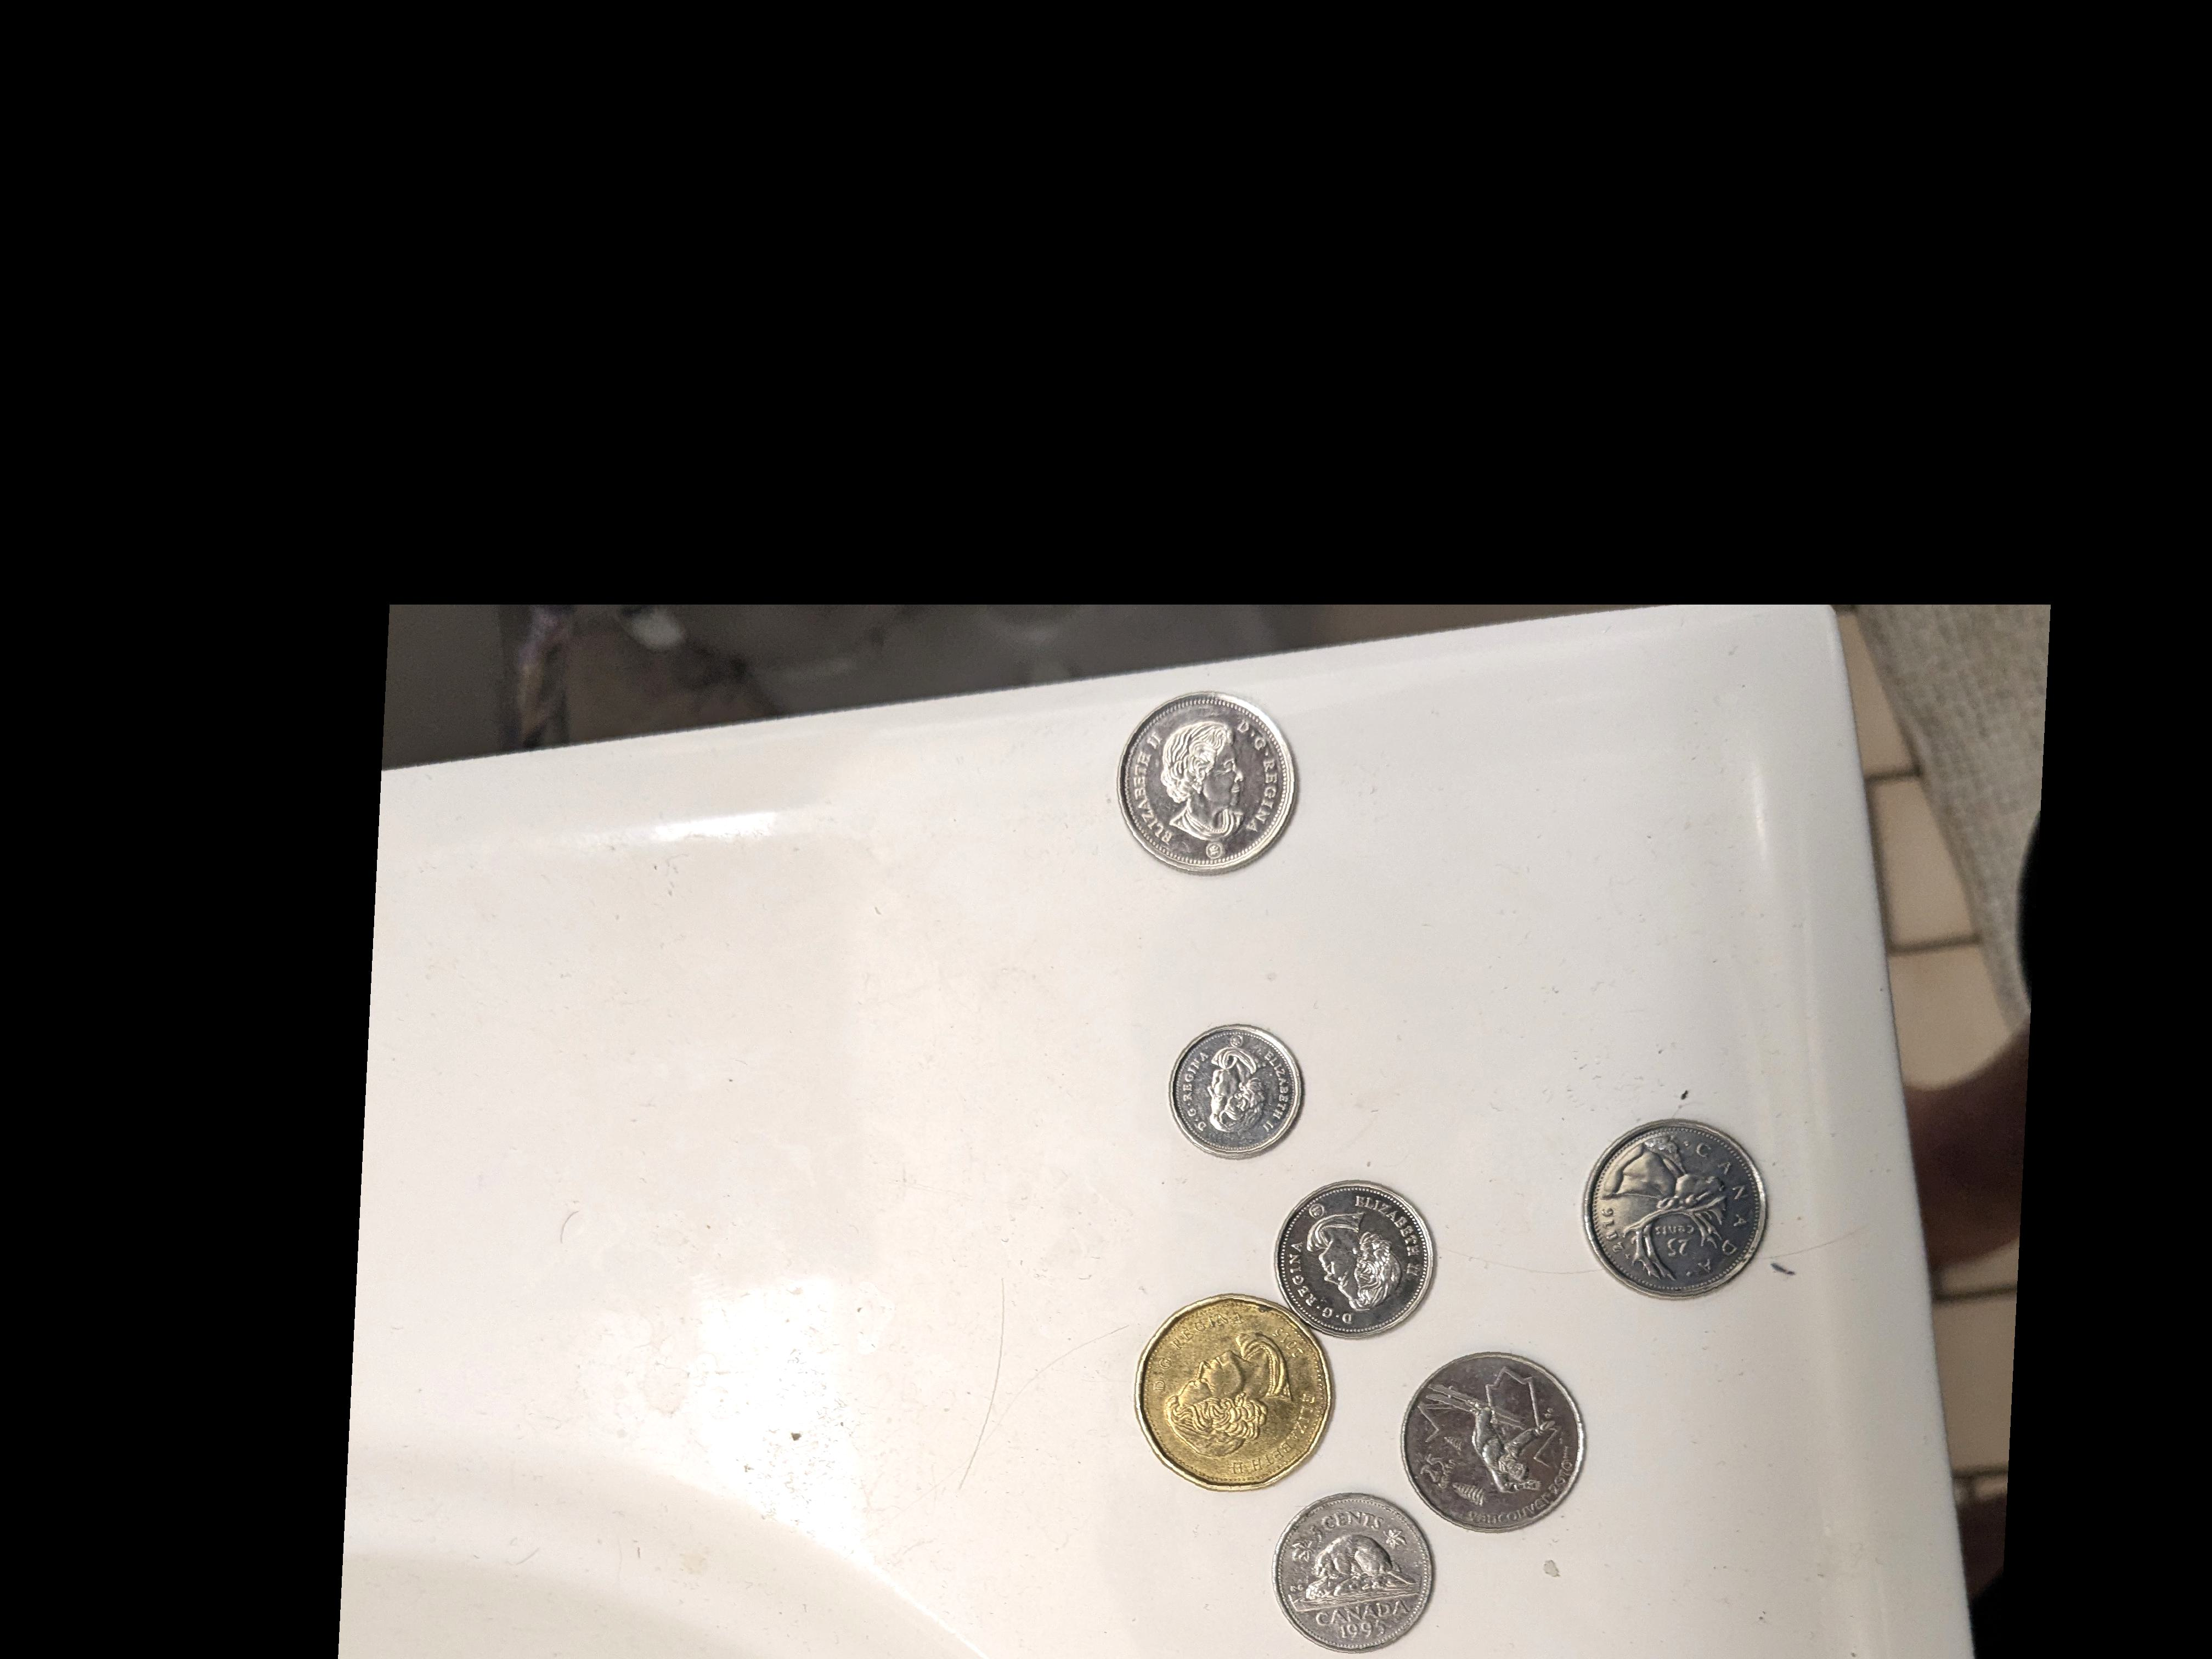dime: (1170, 1023, 1301, 1155)
loonie: (1139, 1293, 1334, 1493)
nickel: (1275, 1488, 1439, 1659), (1275, 1180, 1440, 1342)
quarter: (1585, 1112, 1778, 1304), (1395, 1347, 1588, 1525), (1118, 695, 1298, 875)
